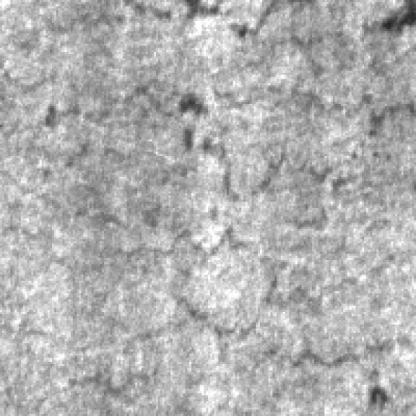crazing: (6, 2, 414, 116), (37, 73, 391, 196), (81, 210, 391, 343)
